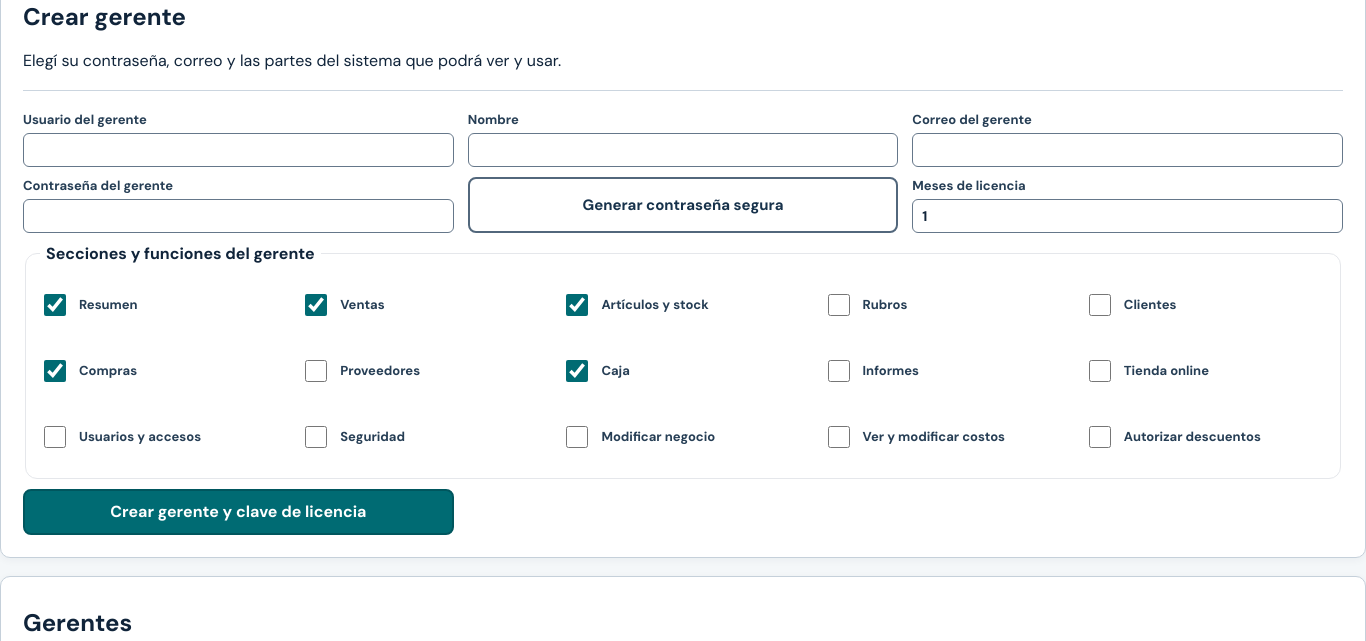
Test case: alon creates a manager with selected modules and activates its license
In the field labelled "Usuario del gerente": (238, 150) [23,133,454,167], type "gerente"
In the field labelled "Nombre": (683, 150) [468,133,898,167], type "Mi gerente"
In the field labelled "Correo del gerente": (1128, 150) [912,133,1343,167], type "gerente@example.test"
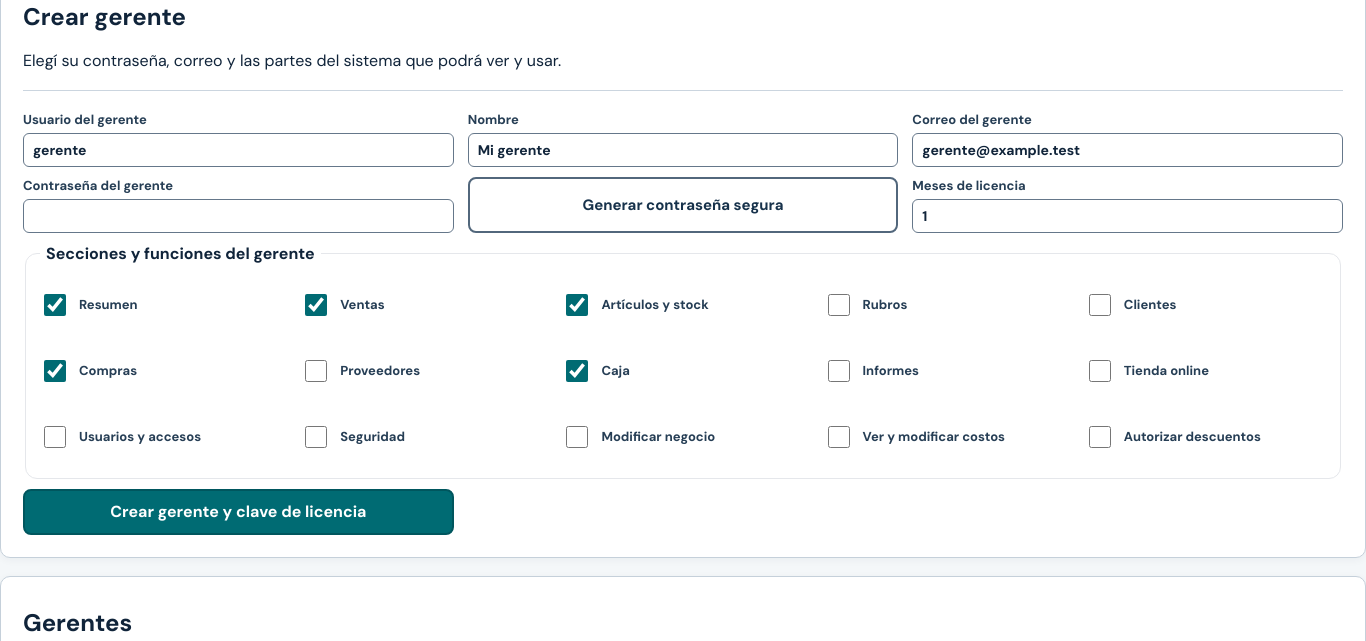
Click the button "Generar contraseña segura": (683, 205) [468,177,898,233]
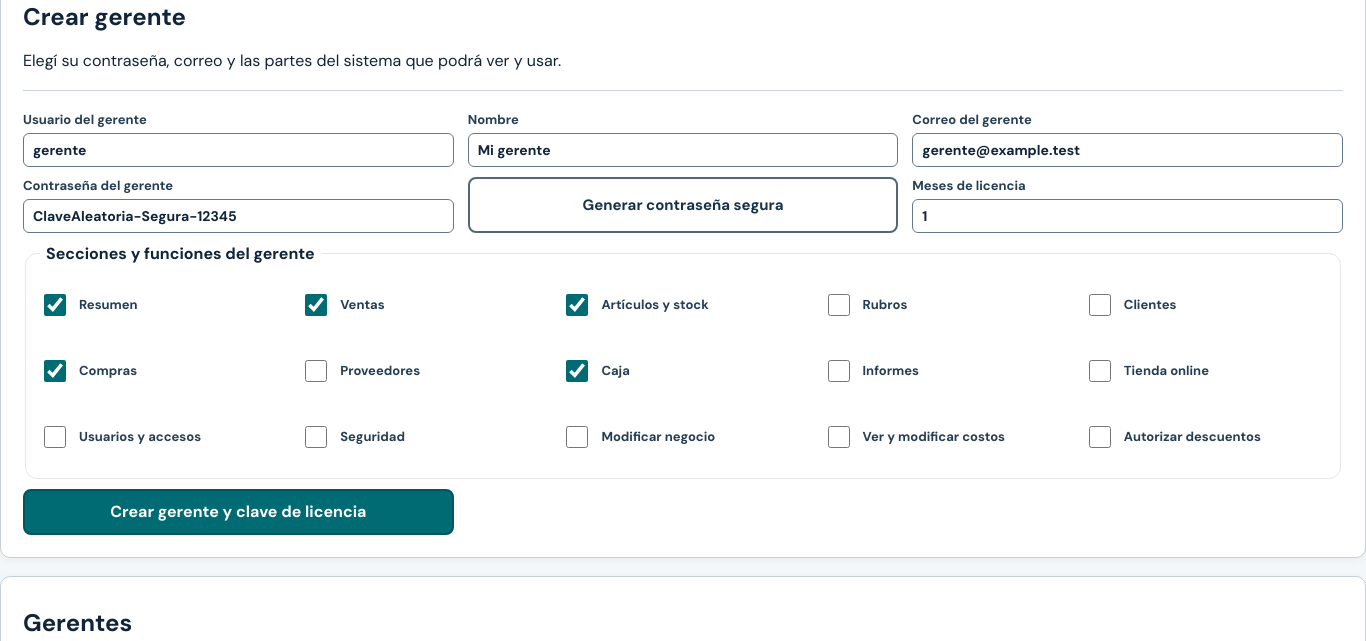
expect the field labelled "Contraseña del gerente" holds "ClaveAleatoria-Segura-12345": met, box [23,199,454,233]
Replace the text in the number field labelled "Meses de licencia" with "2": (1128, 216) [912,199,1343,233]
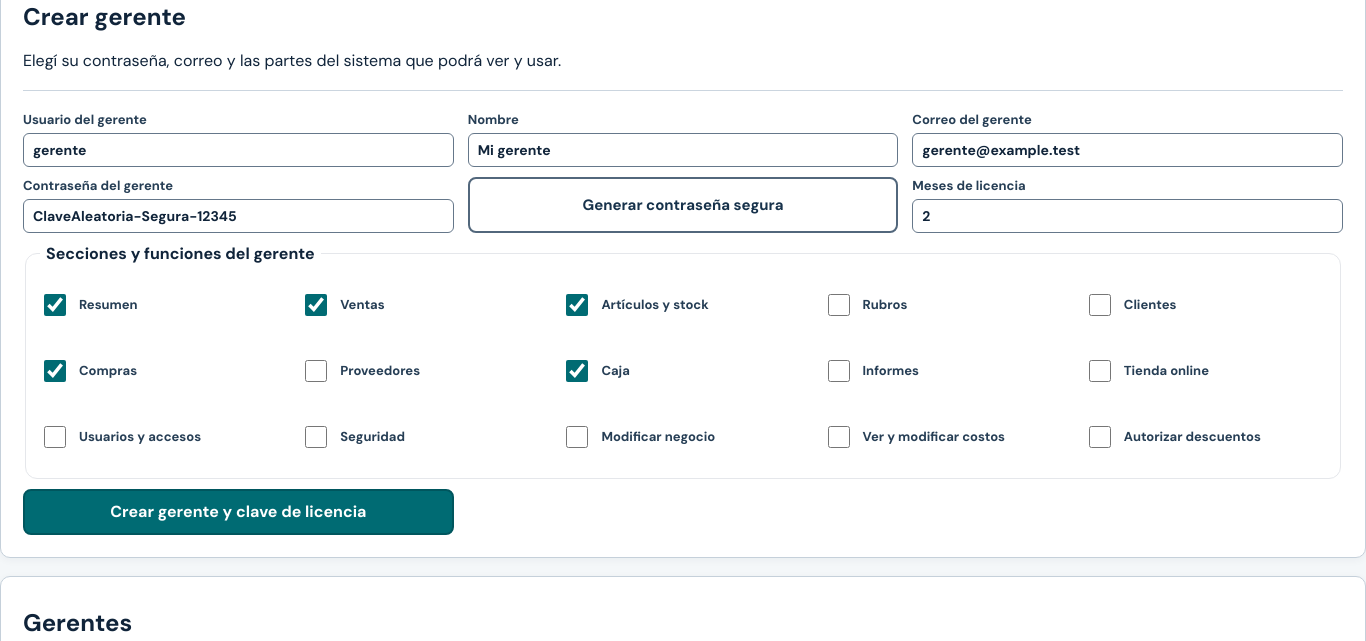
Click the checkbox labelled "Compras": (55, 371) [44,347,66,395]
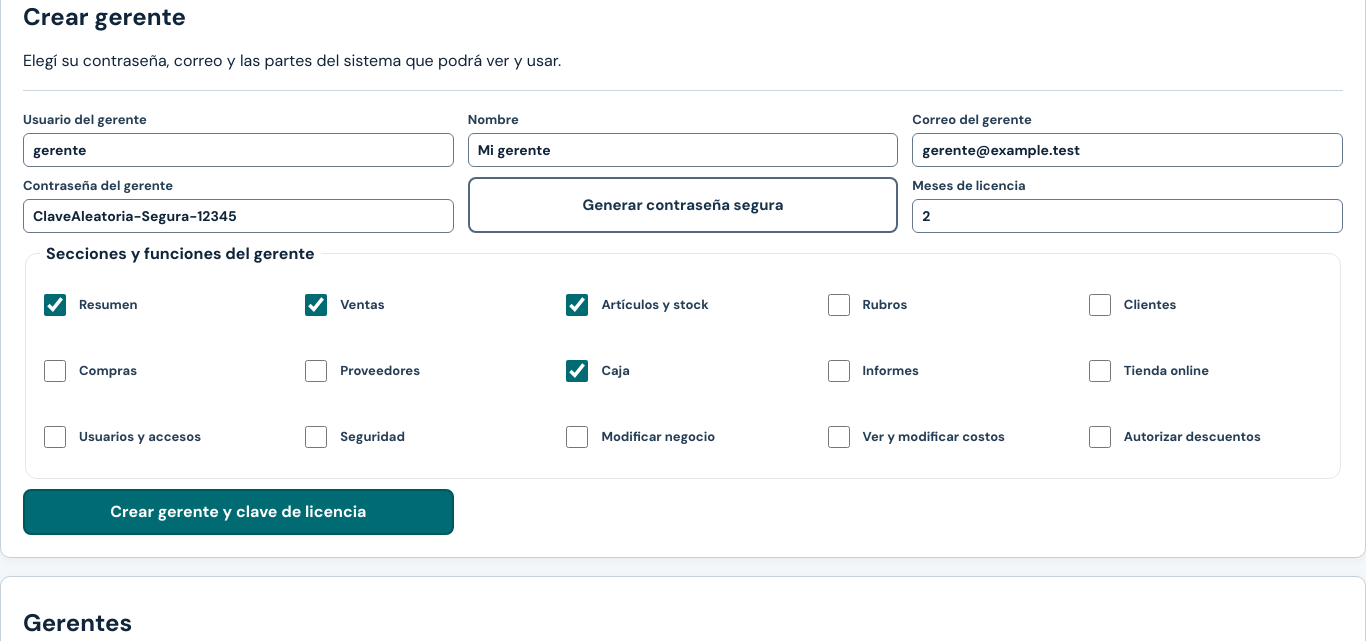
Click the button "Crear gerente y clave de licencia": (238, 512) [23,489,454,535]
(page scrolled)
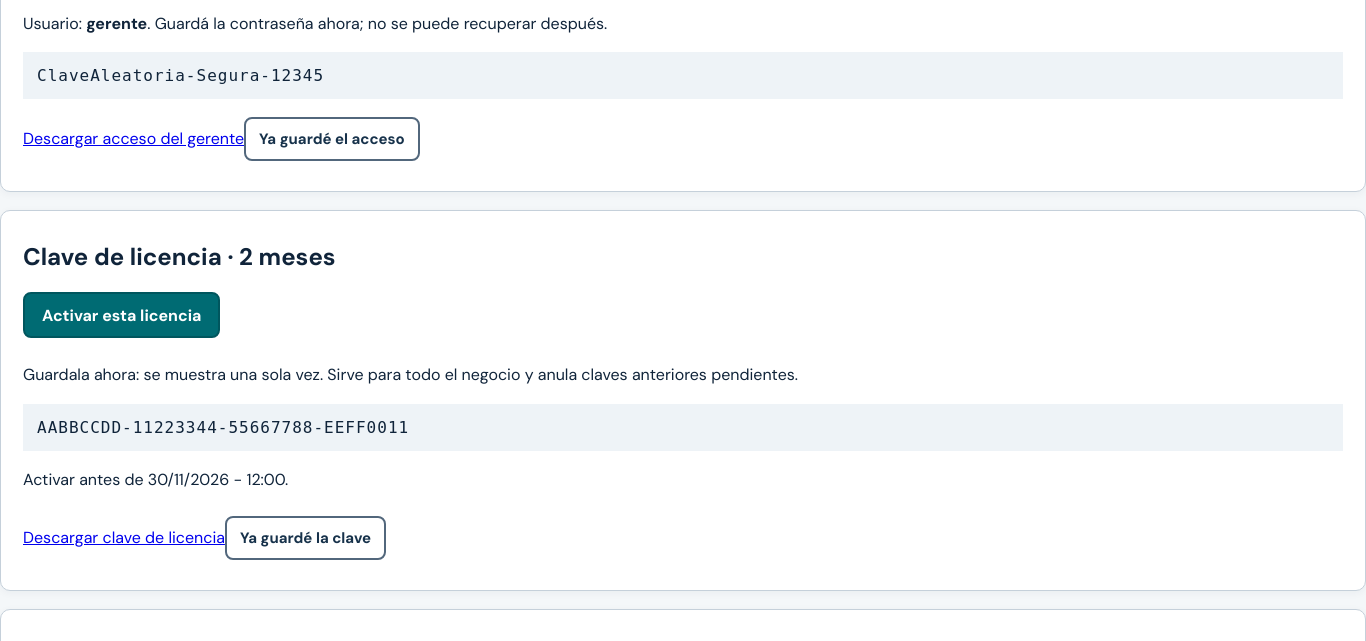
expect the text "AABBCCDD-11223344-55667788-EEFF0011" is shown: met, box [23,404,1343,451]
expect the text "ClaveAleatoria-Segura-12345" is shown: met, box [23,52,1343,99]
expect the link "Descargar acceso del gerente" is shown: met, box [23,128,244,149]
Click the button "Activar esta licencia": (122, 315) [23,292,220,338]
(page scrolled)
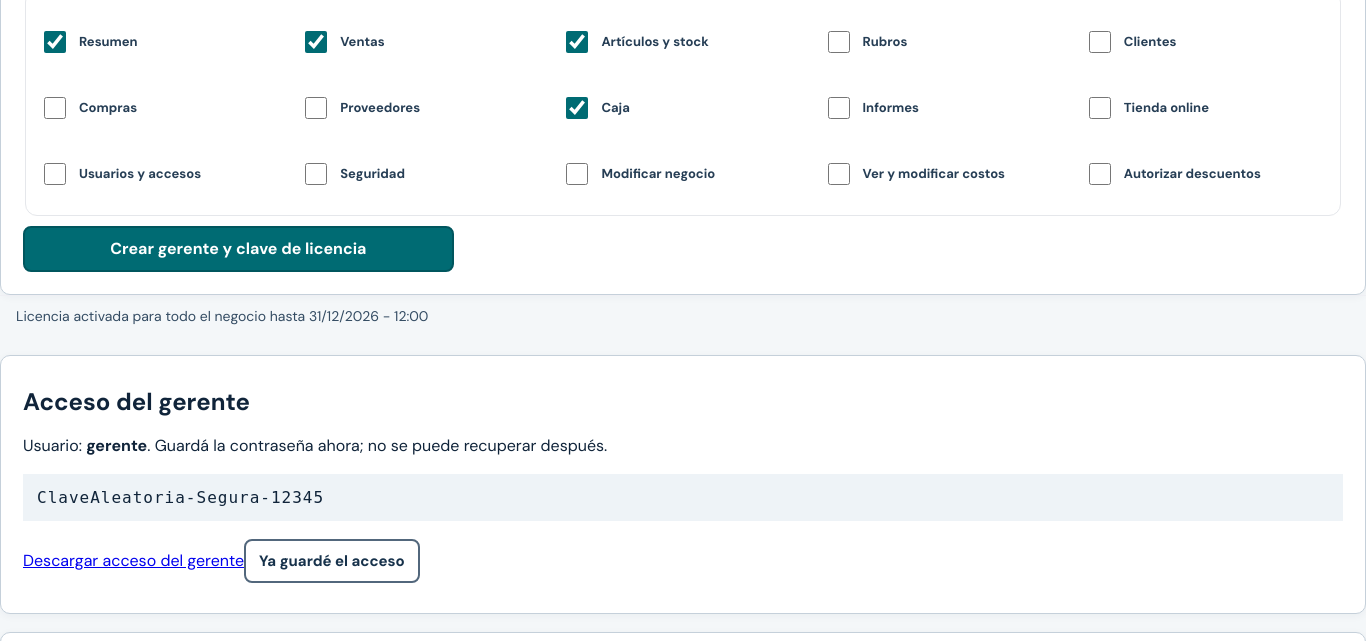
expect the text "Licencia activada para todo el negocio hasta 31/12/2026 - 12:00" is shown: met, box [0,295,1365,337]
